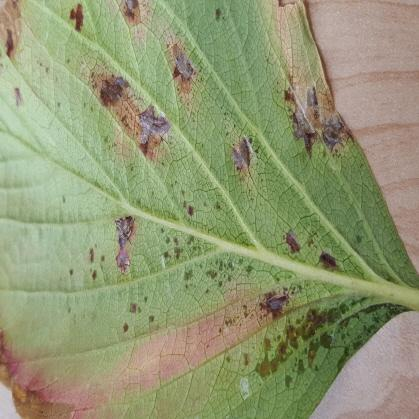Angular Leafspot: (0, 0, 416, 418)
